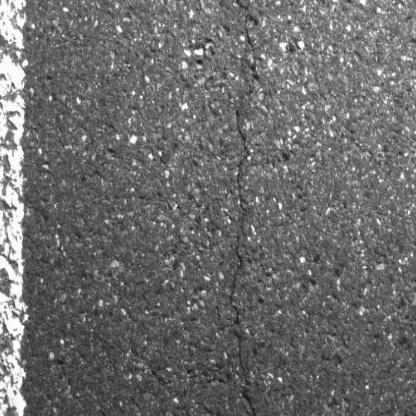Cracks: (224, 107, 266, 416), (231, 0, 265, 107)
